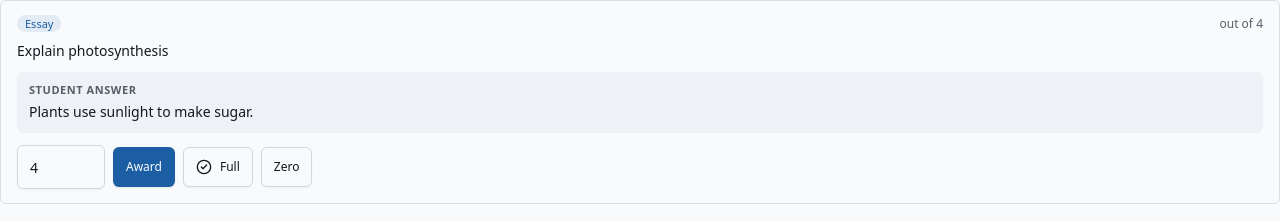
Scenario: AnswerCard › disables marking while the mark is being saved
Click the button "Award". click: (144, 167)
box: x1=113 y1=147 x2=175 y2=187
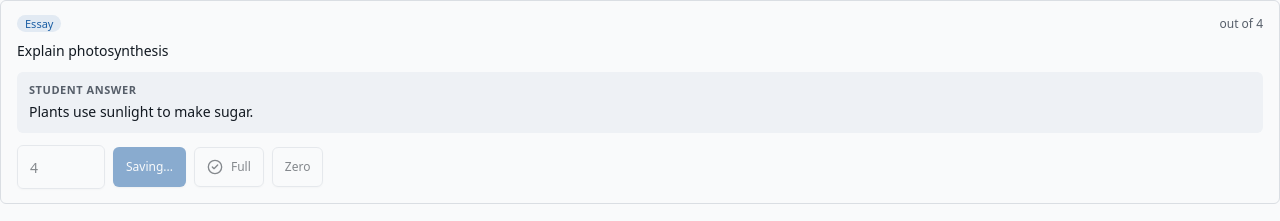
Expected: the button "Saving..." is disabled, x1=113 y1=147 x2=186 y2=187
Expected: the button "Full" is disabled, x1=194 y1=147 x2=264 y2=187
Expected: the button "Zero" is disabled, x1=272 y1=147 x2=323 y2=187
